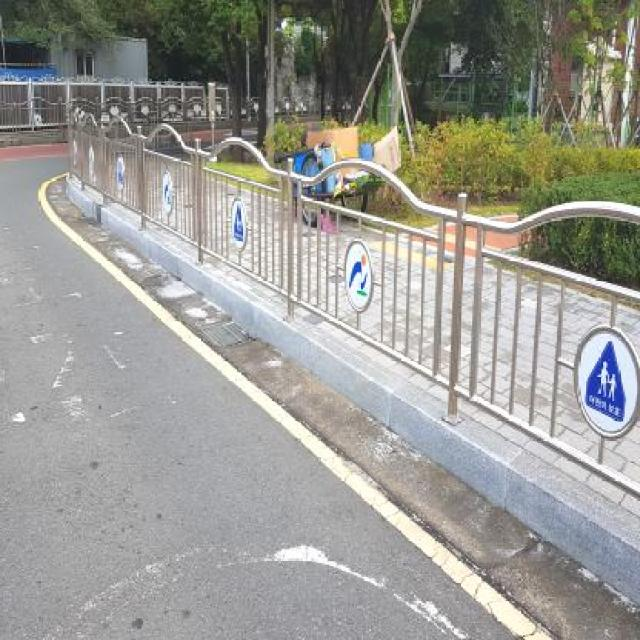fence: (380, 143, 640, 508), (190, 119, 477, 408), (63, 94, 252, 270)
